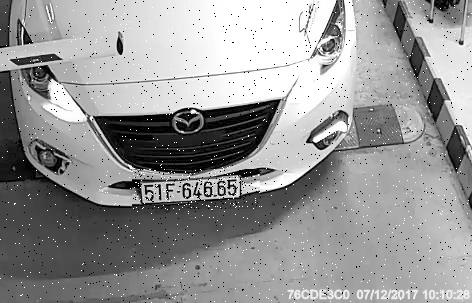License-plate: (133, 171, 261, 212)
